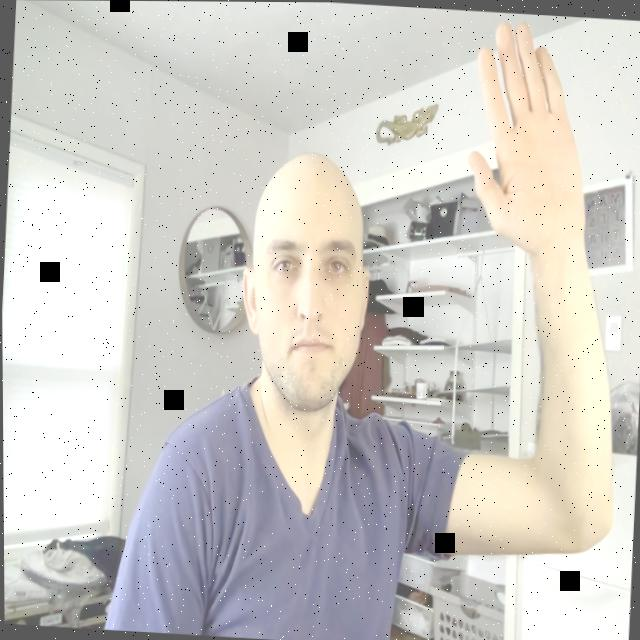Paper: (461, 11, 596, 262)
